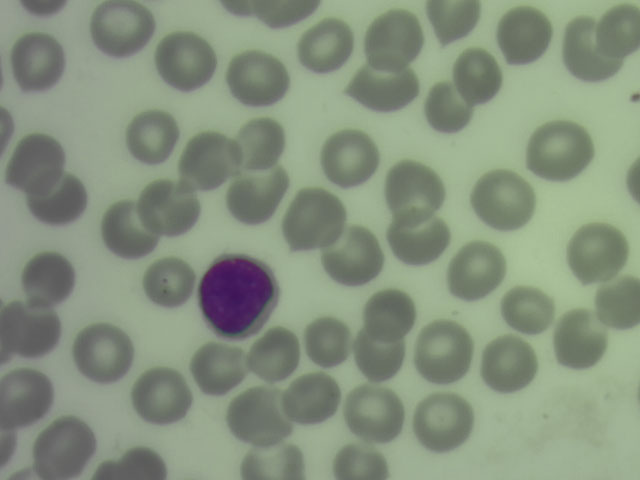RBC: (362, 288, 414, 338), (354, 335, 406, 385), (323, 233, 375, 283), (302, 319, 354, 369), (285, 192, 337, 242), (483, 341, 535, 391), (556, 313, 608, 363), (588, 279, 640, 329), (567, 223, 619, 273), (504, 283, 556, 333), (452, 245, 504, 295), (478, 179, 530, 229), (396, 215, 448, 265), (388, 165, 440, 215), (418, 327, 470, 377), (417, 397, 469, 447), (350, 391, 402, 441), (231, 169, 283, 219), (234, 119, 286, 169), (287, 375, 339, 425), (231, 388, 283, 438), (247, 329, 299, 379), (192, 343, 244, 393), (136, 374, 188, 424), (140, 255, 192, 305), (540, 127, 592, 177), (563, 26, 615, 76), (499, 9, 551, 59), (326, 132, 378, 182), (426, 82, 478, 132), (455, 52, 507, 102), (363, 61, 415, 111), (370, 11, 422, 61), (299, 19, 351, 69), (233, 54, 285, 104), (187, 136, 239, 186), (98, 204, 150, 254), (37, 425, 89, 475), (77, 330, 129, 380), (7, 305, 59, 355), (22, 252, 74, 302), (127, 112, 179, 162), (158, 38, 210, 88), (27, 171, 79, 221), (9, 139, 61, 189), (91, 5, 143, 55), (12, 38, 64, 88), (1, 373, 52, 423), (426, 1, 478, 50), (244, 437, 299, 480), (142, 184, 189, 231), (114, 444, 170, 480), (335, 448, 392, 480), (604, 7, 640, 57), (256, 1, 324, 16)
WBC: (197, 253, 278, 338)
